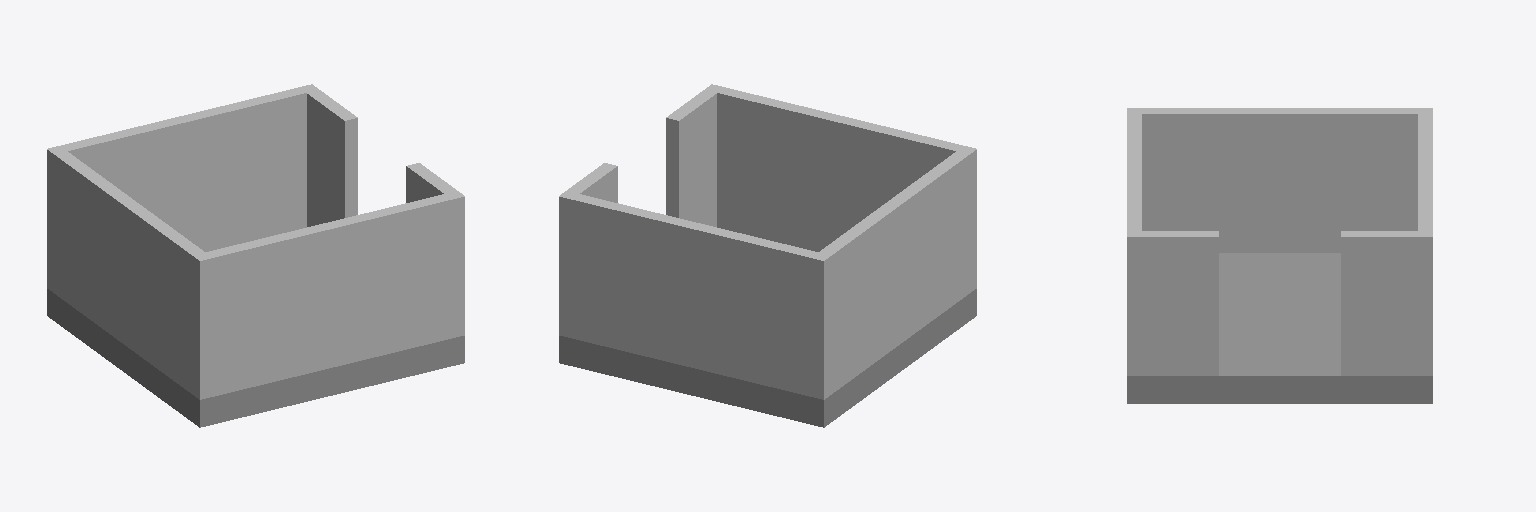
Rendered from big-room_1.obj.
The picture shows the model from 3 angles: view 1: azimuth 30°, elevation 25°; view 2: azimuth 150°, elevation 25°; view 3: azimuth 270°, elevation 25°; orthographic projection.
Parts seen in each view (by area): view 1: Cube.002, Cube.001_Cube.007, Cube.006, Cube, Cube.005, Cube.004; view 2: Cube.001_Cube.007, Cube.002, Cube.006, Cube, Cube.004, Cube.005; view 3: Cube.006, Cube, Cube.004, Cube.005, Cube.001_Cube.007, Cube.002.
Boxes of the visible parts, x1=… form: Cube.002: x1=192, y1=191, x2=464, y2=399; Cube.001_Cube.007: x1=47, y1=84, x2=318, y2=290; Cube.006: x1=47, y1=146, x2=212, y2=399; Cube: x1=47, y1=289, x2=464, y2=427; Cube.005: x1=304, y1=84, x2=357, y2=226; Cube.004: x1=406, y1=163, x2=464, y2=337; Cube.001_Cube.007: x1=559, y1=191, x2=831, y2=399; Cube.002: x1=705, y1=85, x2=976, y2=290; Cube.006: x1=811, y1=146, x2=976, y2=399; Cube: x1=559, y1=289, x2=976, y2=427; Cube.004: x1=666, y1=84, x2=724, y2=226; Cube.005: x1=559, y1=163, x2=617, y2=337; Cube.006: x1=1127, y1=108, x2=1422, y2=252; Cube: x1=1127, y1=253, x2=1432, y2=403; Cube.004: x1=1127, y1=231, x2=1218, y2=375; Cube.005: x1=1341, y1=231, x2=1432, y2=375; Cube.001_Cube.007: x1=1418, y1=108, x2=1432, y2=375; Cube.002: x1=1127, y1=108, x2=1141, y2=375.
Bounding box in the file's own units: 10 × 6 × 10.